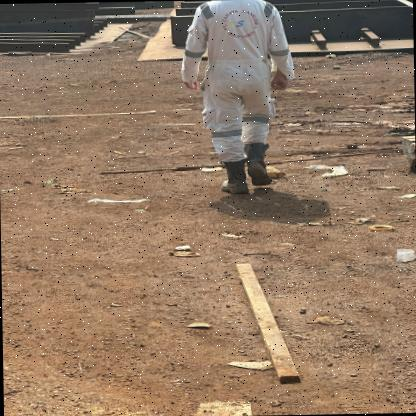bota: (244, 142, 276, 186), (218, 160, 249, 196)
